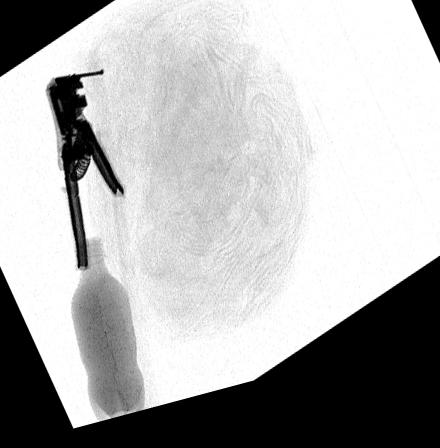Pliers: (46, 73, 125, 278)
